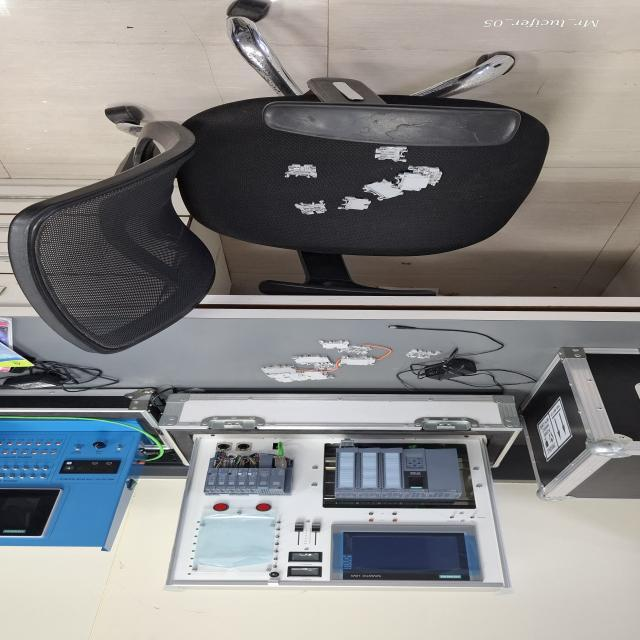Inverted: (334, 196, 374, 211)
Pass: (293, 200, 328, 216)
Reject: (374, 146, 414, 162), (283, 163, 320, 178)
